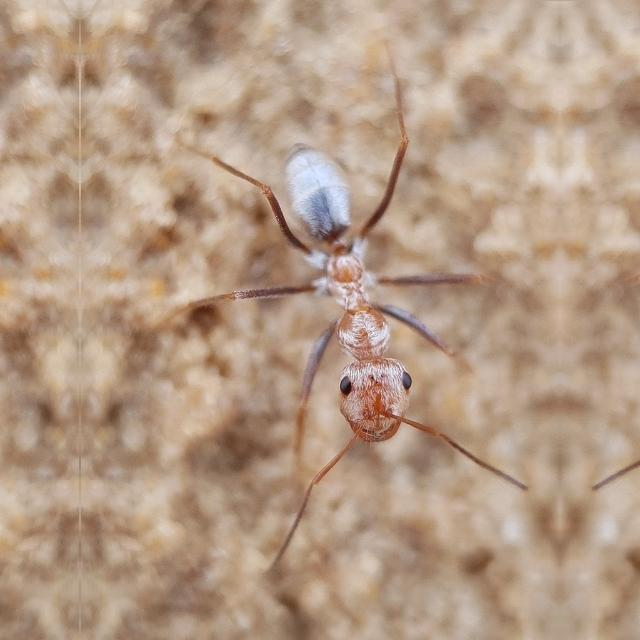Cataglyphis: (238, 92, 467, 518)
